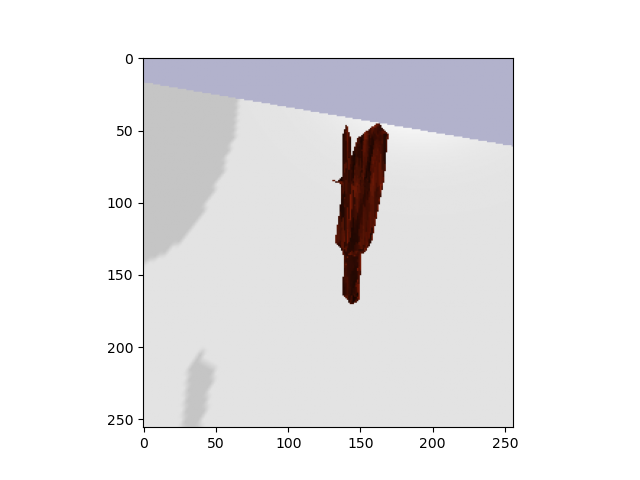v249b387_107: (316, 120, 399, 316)
